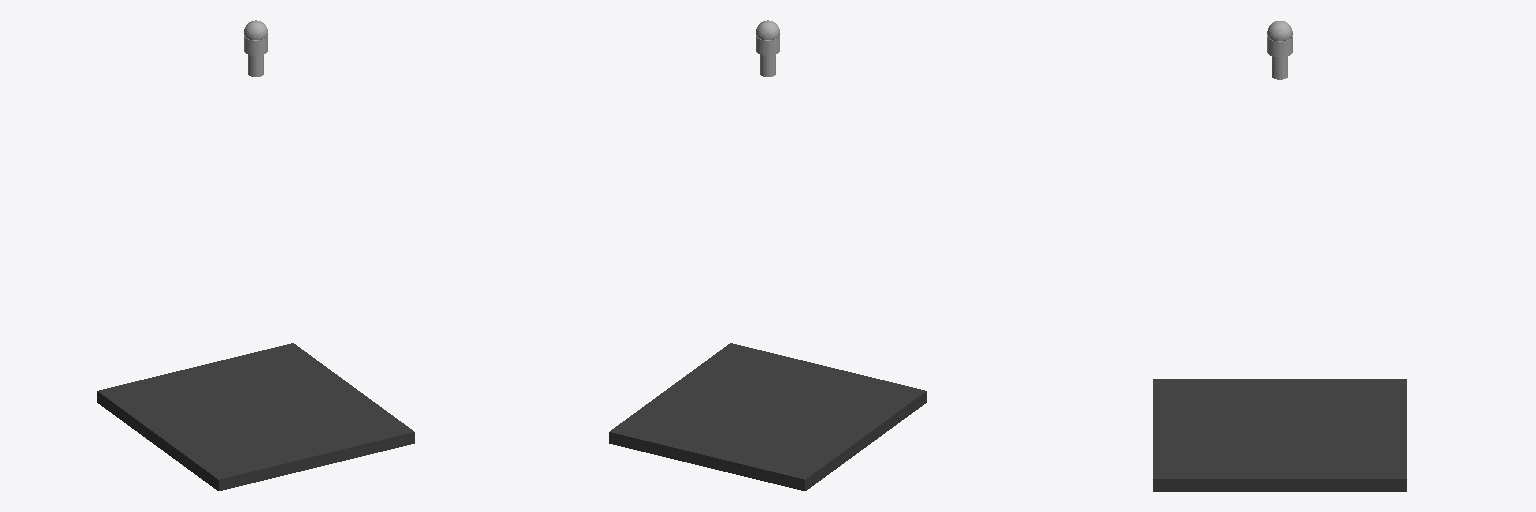
robot.urdf — lwr:
<?xml version="1.0" ?>
<!-- =================================================================================== -->
<!-- |    This document was autogenerated by xacro from kuka_lwr_arm.urdf.xml          | -->
<!-- |    EDITING THIS FILE BY HAND IS NOT RECOMMENDED                                 | -->
<!-- =================================================================================== -->
<robot name="lwr" xmlns:controller="http://playerstage.sourceforge.net/gazebo/xmlschema/#controller" xmlns:interface="http://playerstage.sourceforge.net/gazebo/xmlschema/#interface" xmlns:sensor="http://playerstage.sourceforge.net/gazebo/xmlschema/#sensor" xmlns:xacro="http://www.ros.org/wiki/xacro">
  <gazebo>
    <plugin filename="librtt_gazebo_plugin.so" name="rtt_gazebo">
      <opsScript>
        import(&quot;rtt_ros&quot;);
        ros.import(&quot;rtt_roscomm&quot;);
        ros.import(&quot;rtt_rosparam&quot;);
        ros.import(&quot;rtt_sensor_msgs&quot;);
        ros.import(&quot;lwr_simulation&quot;);
        ros.import(&quot;oro_joint_state_publisher&quot;);
        
        loadComponent(&quot;FRI&quot;,&quot;LWRController&quot;);
        loadComponent(&quot;joints&quot;,&quot;JointStatePublisher&quot;);
        
        loadService(&quot;FRI&quot;,&quot;rosparam&quot;);
        loadService(&quot;joints&quot;,&quot;rosparam&quot;);
        
        setActivity(&quot;FRI&quot;, 0.0, 5, ORO_SCHED_RT);
        setActivity(&quot;joints&quot;, 0.02, 5, ORO_SCHED_RT);
        
        connect(&quot;FRI.JointPosition&quot;,&quot;joints.msrJntPos&quot;, ConnPolicy());
        stream(&quot;joints.joints_state&quot;, rostopic.connection(&quot;/joints_state&quot;));
        
        joints.rosparam.refreshProperties();
        joints.configure();
        joints.start();
      </opsScript>
      <component>FRI</component>
    </plugin>
  </gazebo>
  <material name="DarkGrey">
    <color rgba="0.3 0.3 0.3 1.0"/>
  </material>
  <material name="Red">
    <color rgba="0.3 0.3 0.3 1.0"/>
  </material>
  <material name="Black">
    <color rgba="0 0 0 1.0"/>
  </material>
  <material name="Orange">
    <color rgba="1.0 0.487 0 1.0"/>
  </material>
  <material name="Silver">
    <color rgba="1.0 1.0 1.0 1.0"/>
  </material>
  <material name="Grey">
    <color rgba="0.7 0.7 0.7 1.0"/>
  </material>
  <material name="Blue">
    <color rgba="0.0 0.0 0.8 1.0"/>
  </material>
  <material name="HandGray">
    <color rgba="0.953 0.996 0.694 1.0"/>
  </material>
  <material name="SickBlue">
    <color rgba="0.3058 0.5921 0.7294 1.0"/>
  </material>

<link name="world_frame"/>
<joint name="world_base_joint" type="fixed">
    <origin rpy="0 0 0" xyz="0 0 0"/>
    <parent link="world_frame"/>
    <child link="base"/>
  </joint>

   <link name="base">
    <inertial>
      <mass value="50.0"/>
      <com xyz="0 0 0"/>
      <inertia ixx="0.01" ixy="0.00" ixz="0.00" iyy="0.01" iyz="0.00" izz="0.01"/>
    </inertial>
    <visual>
      <origin rpy="0 0 0" xyz="0 0 0"/>
      <geometry>
        <box size=".7 .75 0.04"/>
      </geometry>
      <material name="DarkGrey"/>
    </visual>
    <collision>
      <origin rpy="0 0 0" xyz="0 0 0"/>
      <geometry>
        <box size=".8 .85 0.04"/>
      </geometry>
    </collision>
  </link>

  <joint name="base_lwr_arm_0_joint" type="fixed">
    <origin rpy="0 0 0" xyz="0 0 0"/>
    <parent link="base"/>
    <child link="lwr_arm_0_link"/>
  </joint>
  <link name="lwr_arm_0_link">
    <inertial>
      <mass value="2.0"/>
      <origin xyz="0 0 0.055"/>
      <inertia ixx="0.00381666666667" ixy="0" ixz="0" iyy="0.0036" iyz="0" izz="0.00381666666667"/>
    </inertial>
    <visual>
      <origin rpy="0 0 3.14159265359" xyz="0 0 0"/>
      <geometry>
        <mesh filename="package://lwr_defs/meshes/lwr/base.STL"/>
      </geometry>
      <material name="Orange"/>
    </visual>
    <collision>
      <origin rpy="0 0 0" xyz="0 0 0.055"/>
      <geometry>
        <cylinder length="0.11" radius="0.07"/>
      </geometry>
    </collision>
  </link>
  <joint name="lwr_arm_0_joint" type="revolute">
    <origin rpy="0 0 3.14159265359" xyz="0 0 0.11"/>
    <axis xyz="0 0 1"/>
    <limit effort="204" lower="-2.96705972839" upper="2.96705972839" velocity="1.91986217719"/>
    <safety_controller k_position="30" k_velocity="30" soft_lower_limit="-2.93215314335" soft_upper_limit="2.93215314335"/>
    <dynamics damping="1.0"/>
    <parent link="lwr_arm_0_link"/>
    <child link="lwr_arm_1_link"/>
  </joint>
  <link name="lwr_arm_1_link">
    <inertial>
      <mass value="2.0"/>
      <origin rpy="0 0 0" xyz="0 -0.06 0.130"/>
      <inertia ixx="0.0136666666667" ixy="0" ixz="0" iyy="0.003" iyz="0" izz="0.0118666666667"/>
    </inertial>
    <visual>
      <origin rpy="0 0 0" xyz="0 0 -0.008"/>
      <geometry>
        <mesh filename="package://lwr_defs/meshes/lwr/link_1.STL"/>
      </geometry>
      <material name="Orange"/>
    </visual>
    <collision>
      <origin rpy="0 0 0" xyz="0 0 0.0"/>
      <geometry>
        <sphere radius="0.07"/>
      </geometry>
    </collision>
    <collision>
      <origin rpy="0 0 0" xyz="0 -0.06 0.2"/>
      <geometry>
        <sphere radius="0.07"/>
      </geometry>
    </collision>
    <collision>
      <origin rpy="0.291 0 0" xyz="0 -0.03 0.1"/>
      <geometry>
        <cylinder length="0.208" radius="0.07"/>
      </geometry>
    </collision>
  </link>
  <gazebo reference="lwr_arm_1_link">
    <gravity>false</gravity>
  </gazebo>
  <transmission name="lwr_arm_0_trans" type="SimpleTransmission">
    <actuator name="lwr_arm_0_motor"/>
    <joint name="lwr_arm_0_joint"/>
    <mechanicalReduction>1.0</mechanicalReduction>
  </transmission>
  <joint name="lwr_arm_1_joint" type="revolute">
    <origin rpy="0 0 0" xyz="0 0 0.2"/>
    <axis xyz="0 1 0"/>
    <limit effort="306" lower="-2.09439510239" upper="2.09439510239" velocity="1.91986217719"/>
    <safety_controller k_position="30" k_velocity="30" soft_lower_limit="-2.05948851735" soft_upper_limit="2.05948851735"/>
    <dynamics damping="1.0" friction="10"/>
    <parent link="lwr_arm_1_link"/>
    <child link="lwr_arm_2_link"/>
  </joint>
  <link name="lwr_arm_2_link">
    <inertial>
      <mass value="2.0"/>
      <origin rpy="0 0 0" xyz="0 0.06 0.07"/>
      <inertia ixx="0.0136666666667" ixy="0" ixz="0" iyy="0.003" iyz="0" izz="0.0118666666667"/>
    </inertial>
    <visual>
      <origin rpy="0 0 0" xyz="0 0 0.0"/>
      <geometry>
        <mesh filename="package://lwr_defs/meshes/lwr/link_2.STL"/>
      </geometry>
      <material name="Orange"/>
    </visual>
    <collision>
      <origin rpy="0 0 0" xyz="0 0 0.2"/>
      <geometry>
        <sphere radius="0.07"/>
      </geometry>
    </collision>
    <collision>
      <origin rpy="0 0 0" xyz="0 0.06 0.0"/>
      <geometry>
        <sphere radius="0.07"/>
      </geometry>
    </collision>
    <collision>
      <origin rpy="0.291 0 0" xyz="0 0.03 0.1"/>
      <geometry>
        <cylinder length="0.208" radius="0.07"/>
      </geometry>
    </collision>
  </link>
  <gazebo reference="lwr_arm_2_link">
    <gravity>false</gravity>
  </gazebo>
  <transmission name="lwr_arm_1_trans" type="SimpleTransmission">
    <actuator name="lwr_arm_1_motor"/>
    <joint name="lwr_arm_1_joint"/>
    <mechanicalReduction>1.0</mechanicalReduction>
  </transmission>
  <joint name="lwr_arm_2_joint" type="revolute">
    <origin rpy="0 0 0" xyz="0 0 0.20"/>
    <axis xyz="0 0 1"/>
    <limit effort="204" lower="-2.96705972839" upper="2.96705972839" velocity="2.26892802759"/>
    <safety_controller k_position="30" k_velocity="30" soft_lower_limit="-2.93215314335" soft_upper_limit="2.93215314335"/>
    <dynamics damping="1.0"/>
    <parent link="lwr_arm_2_link"/>
    <child link="lwr_arm_3_link"/>
  </joint>
  <link name="lwr_arm_3_link">
    <inertial>
      <mass value="2.0"/>
      <origin rpy="0 0 0" xyz="0 0.06 0.130"/>
      <inertia ixx="0.0136666666667" ixy="0" ixz="0" iyy="0.003" iyz="0" izz="0.0118666666667"/>
    </inertial>
    <visual>
      <origin rpy="0 0 0" xyz="0 0 -0.008"/>
      <geometry>
        <mesh filename="package://lwr_defs/meshes/lwr/link_3.STL"/>
      </geometry>
      <material name="Orange"/>
    </visual>
    <collision>
      <origin rpy="0 0 0" xyz="0 0 0.0"/>
      <geometry>
        <sphere radius="0.07"/>
      </geometry>
    </collision>
    <collision>
      <origin rpy="0 0 0" xyz="0 0.06 0.2"/>
      <geometry>
        <sphere radius="0.07"/>
      </geometry>
    </collision>
    <collision>
      <origin rpy="-0.291 0 0" xyz="0 0.03 0.1"/>
      <geometry>
        <cylinder length="0.208" radius="0.07"/>
      </geometry>
    </collision>
  </link>
  <gazebo reference="lwr_arm_3_link">
    <gravity>false</gravity>
  </gazebo>
  <transmission name="lwr_arm_2_trans" type="SimpleTransmission">
    <actuator name="lwr_arm_2_motor"/>
    <joint name="lwr_arm_2_joint"/>
    <mechanicalReduction>1.0</mechanicalReduction>
  </transmission>
  <joint name="lwr_arm_3_joint" type="revolute">
    <origin rpy="0 0 0" xyz="0 0 0.20"/>
    <axis xyz="0 -1 0"/>
    <limit effort="306" lower="-2.09439510239" upper="2.09439510239" velocity="2.26892802759"/>
    <safety_controller k_position="30" k_velocity="30" soft_lower_limit="-2.05948851735" soft_upper_limit="2.05948851735"/>
    <dynamics damping="1.0"/>
    <parent link="lwr_arm_3_link"/>
    <child link="lwr_arm_4_link"/>
  </joint>
  <link name="lwr_arm_4_link">
    <inertial>
      <mass value="2.0"/>
      <origin rpy="0 0 0" xyz="0 -0.06 0.07"/>
      <inertia ixx="0.0136666666667" ixy="0" ixz="0" iyy="0.003" iyz="0" izz="0.0118666666667"/>
    </inertial>
    <visual>
      <origin rpy="0 0 0" xyz="0 0 0.0"/>
      <geometry>
        <mesh filename="package://lwr_defs/meshes/lwr/link_4.STL"/>
      </geometry>
      <material name="Orange"/>
    </visual>
    <collision>
      <origin rpy="0 0 0" xyz="0 0 0.2"/>
      <geometry>
        <sphere radius="0.07"/>
      </geometry>
    </collision>
    <collision>
      <origin rpy="0 0 0" xyz="0 -0.06 0.0"/>
      <geometry>
        <sphere radius="0.07"/>
      </geometry>
    </collision>
    <collision>
      <origin rpy="-0.291 0 0" xyz="0 -0.03 0.1"/>
      <geometry>
        <cylinder length="0.208" radius="0.07"/>
      </geometry>
    </collision>
  </link>
  <gazebo reference="lwr_arm_4_link">
    <gravity>false</gravity>
  </gazebo>
  <transmission name="lwr_arm_3_trans" type="SimpleTransmission">
    <actuator name="lwr_arm_3_motor"/>
    <joint name="lwr_arm_3_joint"/>
    <mechanicalReduction>1.0</mechanicalReduction>
  </transmission>
  <joint name="lwr_arm_4_joint" type="revolute">
    <origin rpy="0 0 0" xyz="0 0 0.20"/>
    <axis xyz="0 0 1"/>
    <limit effort="204" lower="-2.96705972839" upper="2.96705972839" velocity="2.26892802759"/>
    <safety_controller k_position="30" k_velocity="30" soft_lower_limit="-2.93215314335" soft_upper_limit="2.93215314335"/>
    <dynamics damping="1.0"/>
    <parent link="lwr_arm_4_link"/>
    <child link="lwr_arm_5_link"/>
  </joint>
  <link name="lwr_arm_5_link">
    <inertial>
      <mass value="2.0"/>
      <origin rpy="0 0 0" xyz="0 0 0.124"/>
      <inertia ixx="0.0126506666667" ixy="0" ixz="0" iyy="0.003" iyz="0" izz="0.0108506666667"/>
    </inertial>
    <visual>
      <origin rpy="0 0 0" xyz="0 0 -0.008"/>
      <geometry name="lwr_arm_5_geom">
        <mesh filename="package://lwr_defs/meshes/lwr/link_5.STL"/>
      </geometry>
      <material name="Orange"/>
    </visual>
    <collision>
      <origin rpy="0 0 0" xyz="0 0 0.0"/>
      <geometry>
        <sphere radius="0.07"/>
      </geometry>
    </collision>
    <collision>
      <origin rpy="0 0 0" xyz="0 -0.04 0.19"/>
      <geometry>
        <sphere radius="0.07"/>
      </geometry>
    </collision>
    <collision>
      <origin rpy="0.207 0 0" xyz="0 -0.02 0.095"/>
      <geometry>
        <cylinder length="0.198" radius="0.07"/>
      </geometry>
    </collision>
  </link>
  <gazebo reference="lwr_arm_5_link">
    <gravity>false</gravity>
  </gazebo>
  <transmission name="lwr_arm_4_trans" type="SimpleTransmission">
    <actuator name="lwr_arm_4_motor"/>
    <joint name="lwr_arm_4_joint"/>
    <mechanicalReduction>1.0</mechanicalReduction>
  </transmission>
  <joint name="lwr_arm_5_joint" type="revolute">
    <origin rpy="0 0 0" xyz="0 0 0.19"/>
    <axis xyz="0 1 0"/>
    <limit effort="306" lower="-2.09439510239" upper="2.09439510239" velocity="3.14159265359"/>
    <safety_controller k_position="30" k_velocity="30" soft_lower_limit="-2.05948851735" soft_upper_limit="2.05948851735"/>
    <dynamics damping="1.0"/>
    <parent link="lwr_arm_5_link"/>
    <child link="lwr_arm_6_link"/>
  </joint>
  <link name="lwr_arm_6_link">
    <inertial>
      <mass value="0.2"/>
      <origin rpy="0 0 0" xyz="0 0 0.0625"/>
      <inertia ixx="0.000520833333333" ixy="0" ixz="0" iyy="0.000520833333333" iyz="0" izz="0.000520833333333"/>
    </inertial>
    <visual>
      <origin rpy="0 0 0" xyz="0 0 0"/>
      <geometry>
        <mesh filename="package://lwr_defs/meshes/lwr/link_6.STL"/>
      </geometry>
      <material name="Grey"/>
    </visual>
    <collision>
      <origin rpy="0 0 0" xyz="0 0 0"/>
      <geometry>
        <mesh filename="package://lwr_defs/meshes/lwr/convex/arm_wrist_convex.stl"/>
      </geometry>
    </collision>
  </link>
  <gazebo reference="lwr_arm_6_link">
    <gravity>false</gravity>
  </gazebo>
  <transmission name="lwr_arm_5_trans" type="SimpleTransmission">
    <actuator name="lwr_arm_5_motor"/>
    <joint name="lwr_arm_5_joint"/>
    <mechanicalReduction>1.0</mechanicalReduction>
  </transmission>
  <joint name="lwr_arm_6_joint" type="revolute">
    <origin rpy="0 0 3.14159265359" xyz="0 0 0.078"/>
    <axis xyz="0 0 1"/>
    <limit effort="204" lower="-2.96705972839" upper="2.96705972839" velocity="3.14159265359"/>
    <safety_controller k_position="30" k_velocity="30" soft_lower_limit="-2.93215314335" soft_upper_limit="2.93215314335"/>
    <dynamics damping="1.0"/>
    <parent link="lwr_arm_6_link"/>
    <child link="lwr_arm_7_link"/>
  </joint>
  <link name="lwr_arm_7_link">
    <inertial>
      <mass value="0.2"/>
      <origin xyz="0 0 0"/>
      <inertia ixx="0.0333333333333" ixy="0" ixz="0" iyy="0.0333333333333" iyz="0" izz="0.0333333333333"/>
    </inertial>
    <visual>
      <origin rpy="0 0 0" xyz="0 0 0"/>
      <geometry>
        <mesh filename="package://lwr_defs/meshes/lwr/link_7.STL"/>
      </geometry>
      <material name="Grey"/>
    </visual>
    <collision>
      <origin rpy="0 0 -0.785398163397" xyz="0 0 0"/>
      <geometry>
        <cylinder length="0.05" radius="0.04"/>
      </geometry>
    </collision>
  </link>
  <gazebo reference="lwr_arm_7_link">
    <gravity>false</gravity>
  </gazebo>
  <link name="force_torque_sensor">
    <inertial>
      <mass value="0.2"/>
      <origin xyz="0 0 0"/>
      <inertia ixx="0.0333333333333" ixy="0" ixz="0" iyy="0.0333333333333" iyz="0" izz="0.0333333333333"/>
    </inertial>
    <visual>
      <origin rpy="0 0 0" xyz="0 0 -0.065"/>
      <geometry>
        <cylinder length="0.09" radius="0.025"/>
      </geometry>
      <material name="Grey"/>
    </visual>
    <visual>
      <origin rpy="0 0 0" xyz="0 0 -0.016"/>
      <geometry>
        <cylinder length="0.032" radius="0.0375"/>
      </geometry>
      <material name="Grey"/>
    </visual>
    <visual>
      <origin rpy="0 0 0" xyz="0 0 0.01"/>
      <geometry>
        <cylinder length="0.02" radius="0.0375"/>
      </geometry>
      <material name="Grey"/>
    </visual>
  </link>
  <gazebo reference="force_torque_sensor">
    <gravity>false</gravity>
  </gazebo>
  <transmission name="lwr_arm_6_trans" type="SimpleTransmission">
    <actuator name="lwr_arm_6_motor"/>
    <joint name="lwr_arm_6_joint"/>
    <mechanicalReduction>1.0</mechanicalReduction>
  </transmission>
  <joint name="force_torque_sensor_mount" type="fixed">
    <origin rpy="0 0 0.22" xyz="0 0 0.102"/>
    <parent link="lwr_arm_7_link"/>
    <child link="force_torque_sensor"/>
  </joint>
  <link name="contact_point">
    <visual>
      <origin rpy="0 0 0" xyz="0 0 0"/>
      <geometry>
        <sphere radius="0.0375"/>
      </geometry>
      <material name="Grey"/>
    </visual>
  </link>
  <joint name="contact_point_joint" type="fixed">
    <origin rpy="0 0 -0.22" xyz="0 0 0.03"/>
    <parent link="force_torque_sensor"/>
    <child link="contact_point"/>
  </joint>
</robot>

--- Render facts (derived) ---
The picture shows the robot from 3 angles, left to right: view 1: azimuth 30°, elevation 25°; view 2: azimuth 150°, elevation 25°; view 3: azimuth 270°, elevation 25°; orthographic projection.
Model lwr with 12 links and 11 joints (7 revolute, 4 fixed), rooted at world_frame, posed all joints at 0.
Visible links, largest first — view 1: base, force_torque_sensor; view 2: base, force_torque_sensor; view 3: base, force_torque_sensor.
Link boxes in pixels (x1,y1,x2,y2): base: [97, 343, 414, 490]; force_torque_sensor: [244, 36, 267, 76]; base: [609, 343, 926, 490]; force_torque_sensor: [756, 36, 779, 76]; base: [1153, 379, 1406, 491]; force_torque_sensor: [1267, 35, 1292, 79].
Bounding box of the posed robot: 0.7 × 0.75 × 1.37 m (x, y, z).
0 mesh visuals loaded from 8 distinct referenced files (none loaded); not drawn: 8 (reference not matched to a file when rendering).